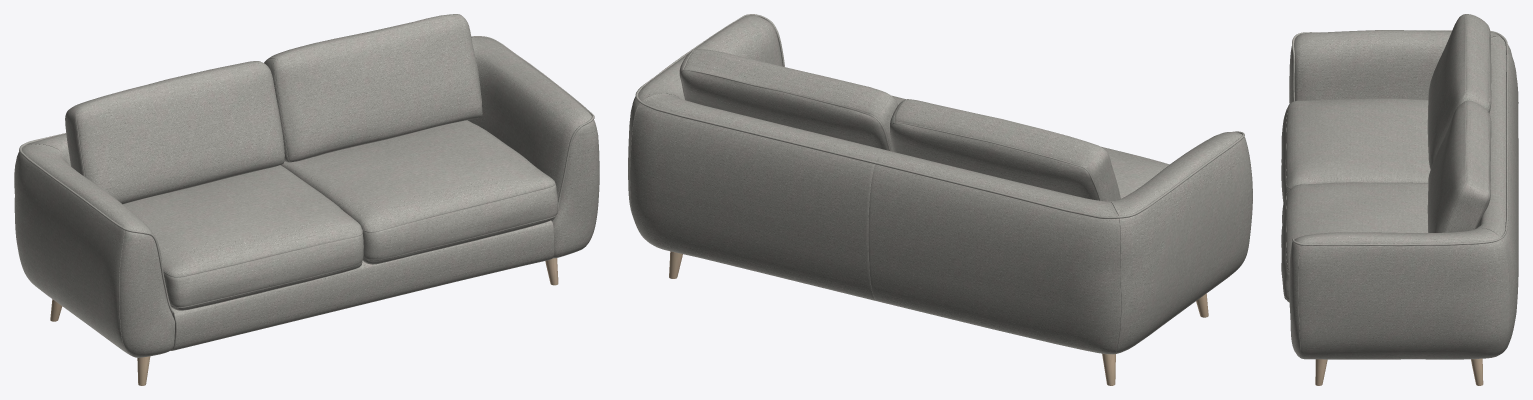
File: B07VNL95FP-mobile.glb
3 views of the same model, side by side, from view 1: azimuth 30°, elevation 25°; view 2: azimuth 150°, elevation 25°; view 3: azimuth 270°, elevation 25° (orthographic). The views are drawn at different scales.
Parts seen in each view (by area): view 1: B07VNL95FP; view 2: B07VNL95FP; view 3: B07VNL95FP.
Boxes of the visible parts, x1=… form: B07VNL95FP: x1=14, y1=14, x2=599, y2=385; B07VNL95FP: x1=628, y1=14, x2=1252, y2=385; B07VNL95FP: x1=1281, y1=14, x2=1518, y2=385.
Bounding box in the file's own units: 2 × 0.8499 × 0.92.
1 material, 1 textured.
